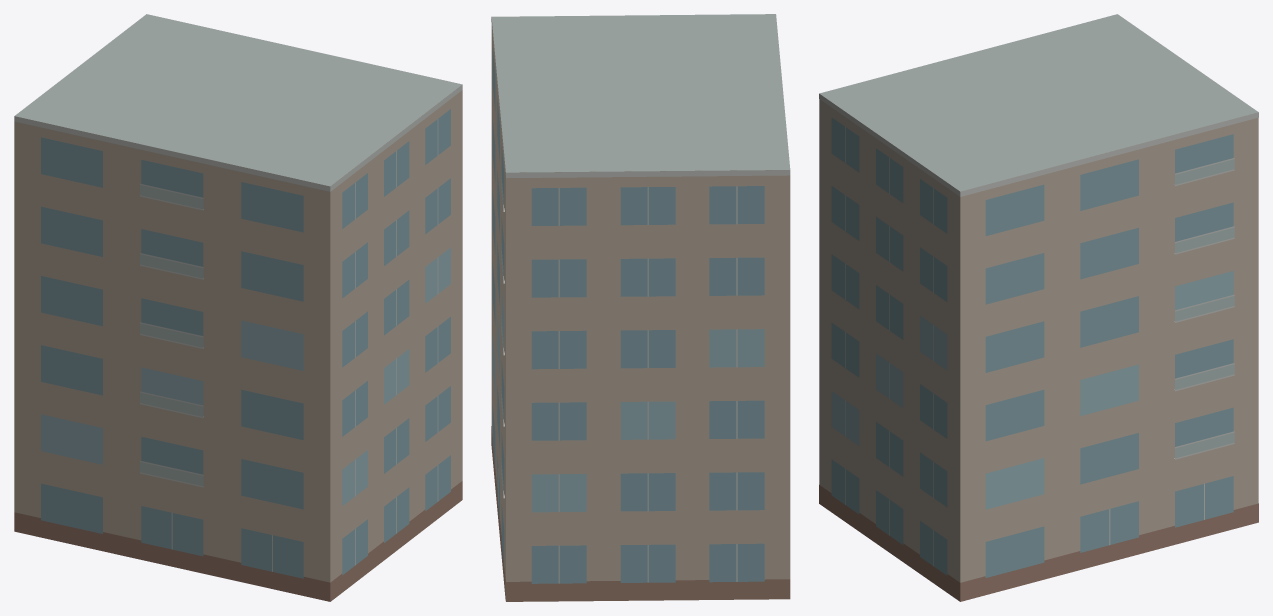
File: survey-upis-32863476.glb
The picture shows the model from 3 angles, left to right: view 1: azimuth 30°, elevation 25°; view 2: azimuth 150°, elevation 25°; view 3: azimuth 270°, elevation 25°; orthographic projection. The views are drawn at different scales.
Visible parts, largest first — view 1: survey-upis-32863476.tmp; view 2: survey-upis-32863476.tmp; view 3: survey-upis-32863476.tmp.
Boxes of the visible parts, x1,y1,x2,y2 form: survey-upis-32863476.tmp: [14, 14, 462, 601]; survey-upis-32863476.tmp: [491, 14, 790, 601]; survey-upis-32863476.tmp: [819, 14, 1258, 601].
Bounding box in the file's own units: 17.47 × 18.8 × 18.27.
